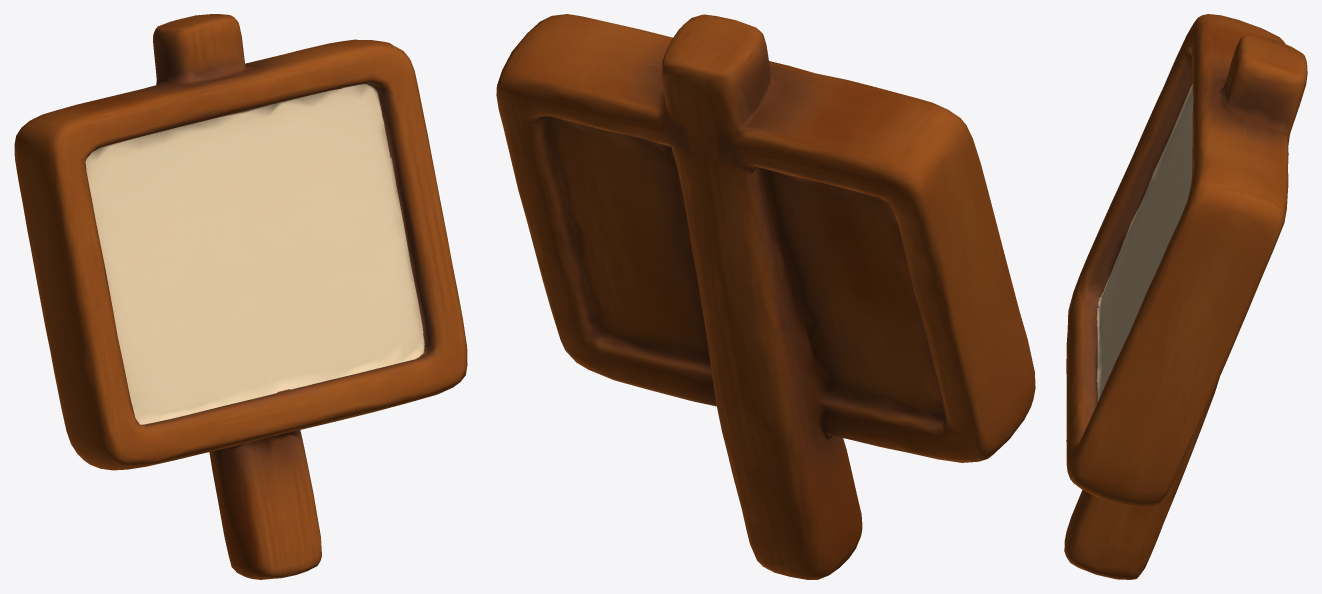
File: signboard.glb
3 views of the same model, side by side, from view 1: azimuth 30°, elevation 25°; view 2: azimuth 150°, elevation 25°; view 3: azimuth 270°, elevation 25° (orthographic). The views are drawn at different scales.
Bounding box in the file's own units: 0.7592 × 0.9993 × 0.419.
1 material, 1 textured.
